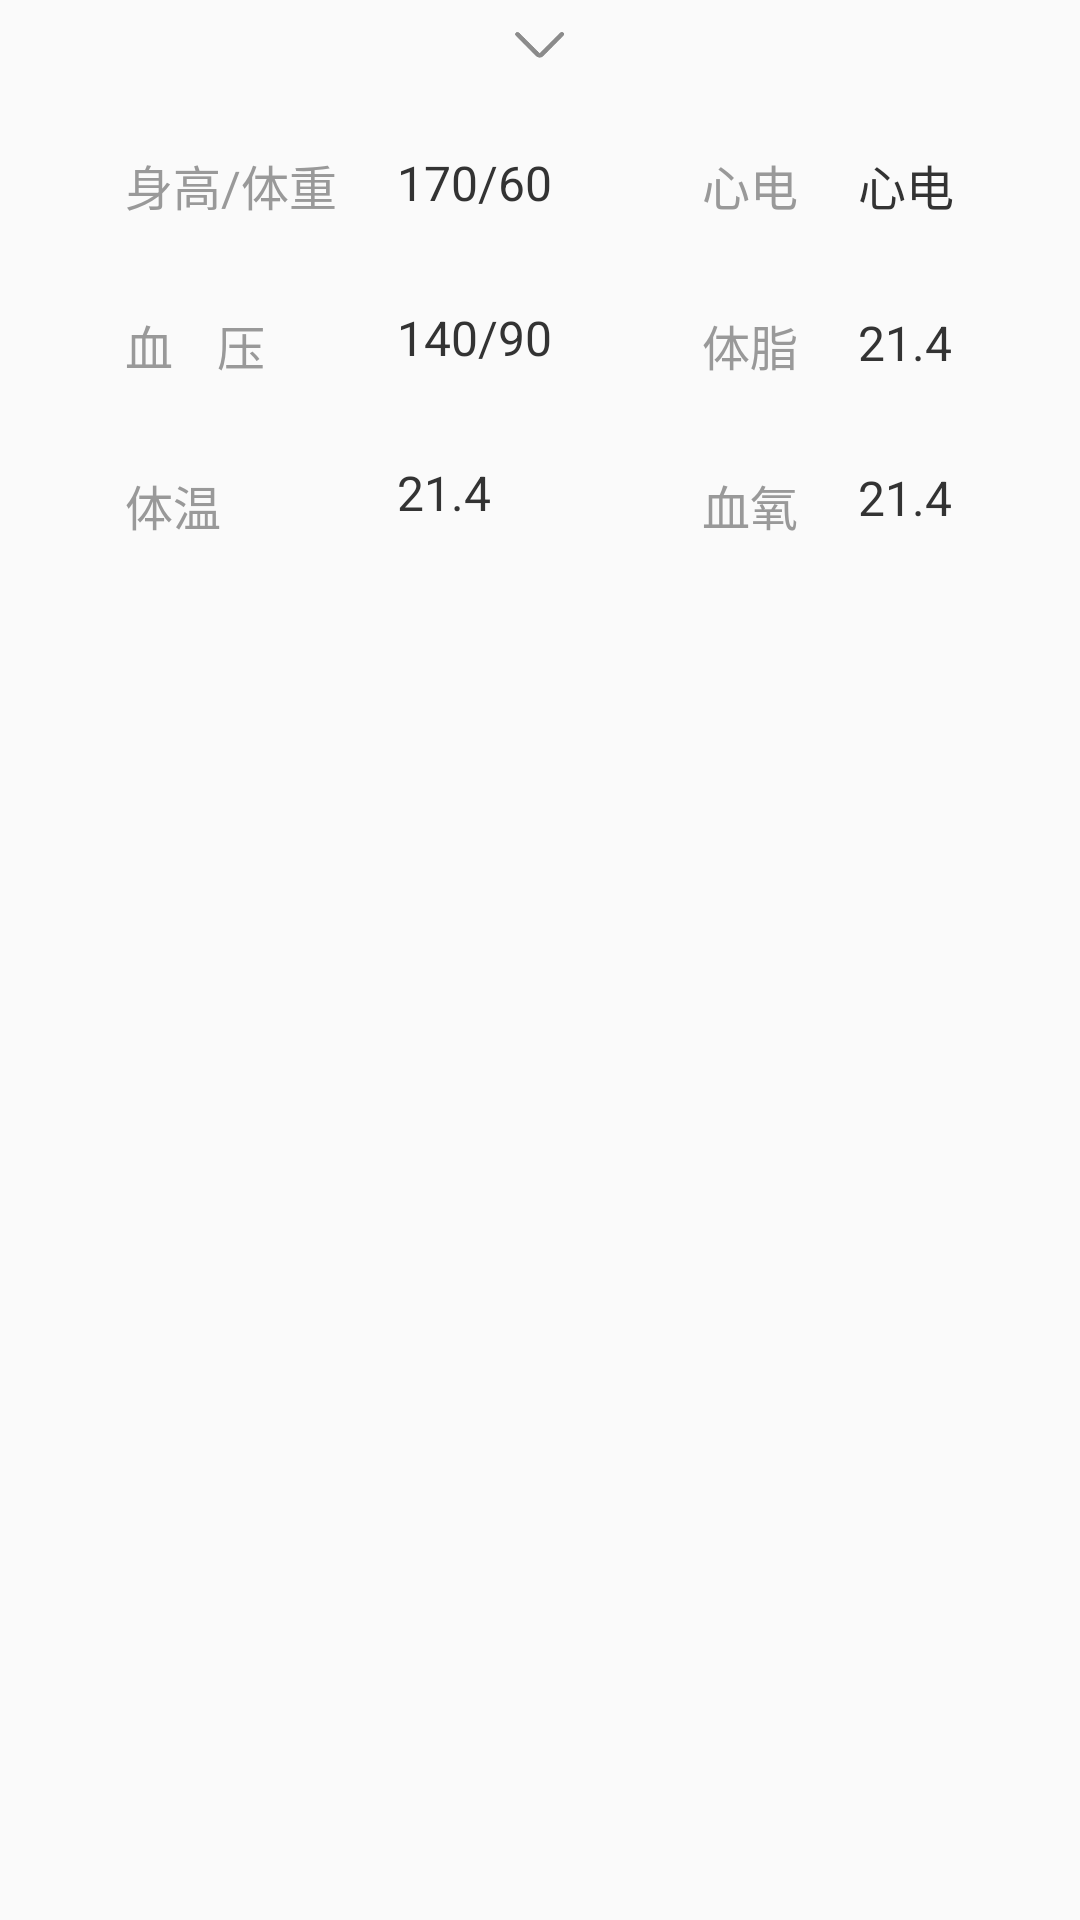

Icon click points for this 1080 × 1920 phone screenshot, format (x=x, y=y):
down: (x=539, y=45)
